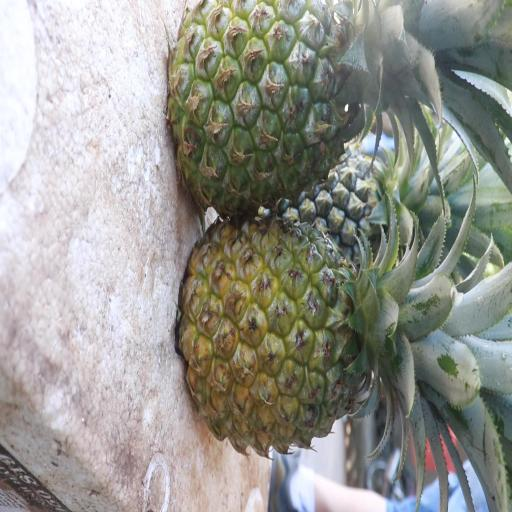------------------------------: (166, 0, 416, 213)
Pineapple - v8 v1: (185, 225, 416, 454)
